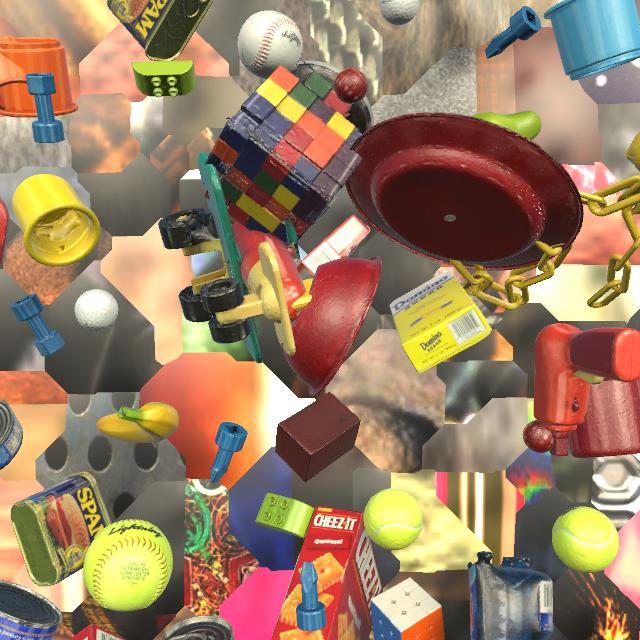ycb_002_master_chef_can: (0, 579, 63, 640)
ycb_003_cracker_box: (271, 506, 382, 640), (70, 623, 126, 640)
ycb_004_sugar_box: (390, 270, 492, 374)
ycb_005_tomato_soup_can: (161, 615, 234, 640)
ycb_007_tuna_fish_can: (0, 398, 23, 470)
ycb_009_gelatin_box: (296, 215, 371, 280)
ycb_010_potted_meat_can: (10, 471, 112, 587), (107, 0, 214, 61)
ycb_011_banana: (96, 402, 178, 443)
ycb_014_lemon: (625, 132, 640, 172)
ycb_016_pear: (471, 111, 542, 140)
